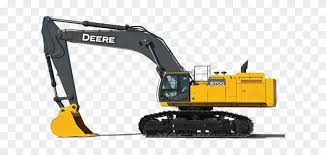excavator: (38, 10, 281, 143)
